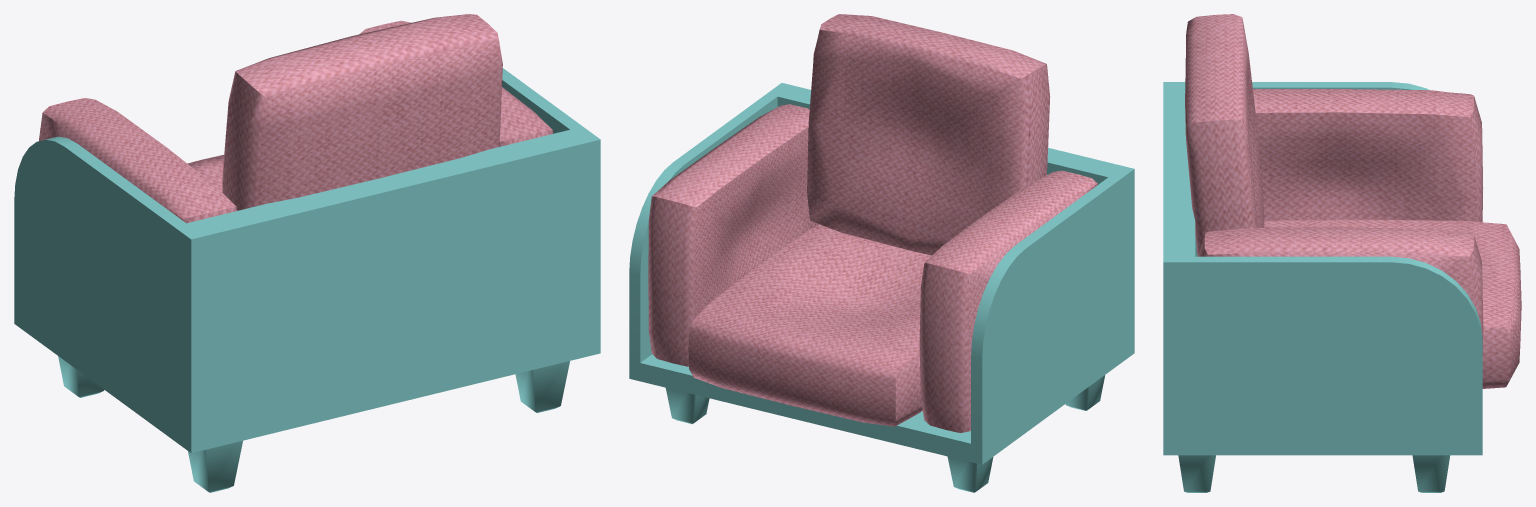
File: furniture_seating_210062.glb
3 views of the same model, side by side, from view 1: azimuth 30°, elevation 25°; view 2: azimuth 150°, elevation 25°; view 3: azimuth 270°, elevation 25° (orthographic). The views are drawn at different scales.
Parts seen in each view (by area): view 1: furniture_seating_210062; view 2: furniture_seating_210062; view 3: furniture_seating_210062.
Part boxes in pixels (bbox=[...]): furniture_seating_210062: bbox=[14, 14, 600, 492]; furniture_seating_210062: bbox=[629, 14, 1134, 492]; furniture_seating_210062: bbox=[1163, 14, 1521, 492].
Bounding box in the file's own units: 0.9557 × 0.8823 × 0.8029.
1 material, 1 textured.
